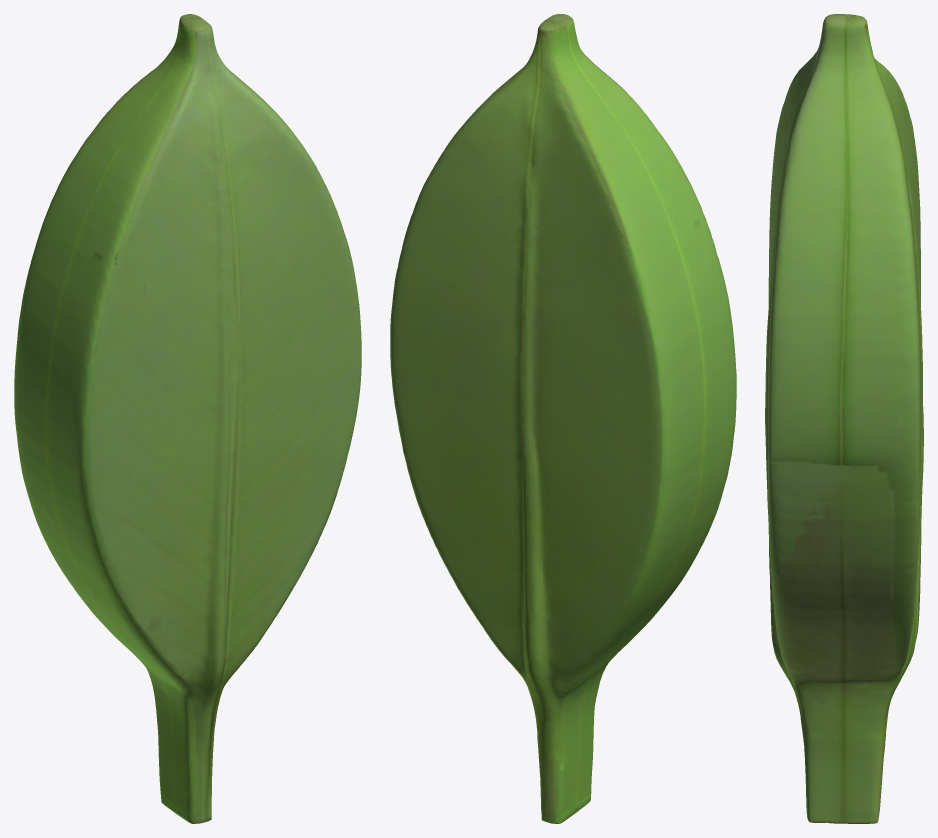
File: MongoDB.gltf
The picture shows the model from 3 angles, left to right: view 1: azimuth 30°, elevation 25°; view 2: azimuth 150°, elevation 25°; view 3: azimuth 270°, elevation 25°; orthographic projection. The views are drawn at different scales.
Parts seen in each view (by area): view 1: Mesh_0; view 2: Mesh_0; view 3: Mesh_0.
Part boxes in pixels (<box>): Mesh_0: <box>14,14,361,823</box>; Mesh_0: <box>390,14,736,823</box>; Mesh_0: <box>765,14,923,823</box>.
Bounding box in the file's own units: 0.5119 × 1.36 × 0.2433.
Materials: 1 (1 with a texture image).
